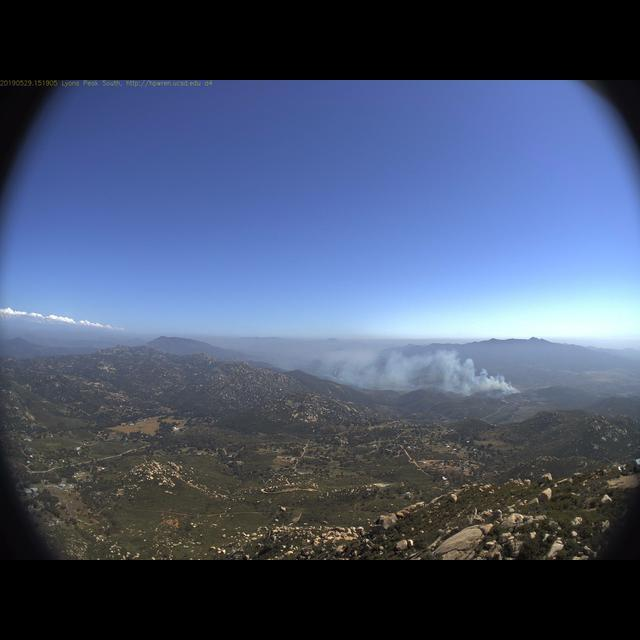Smoke: (299, 343, 518, 398)
